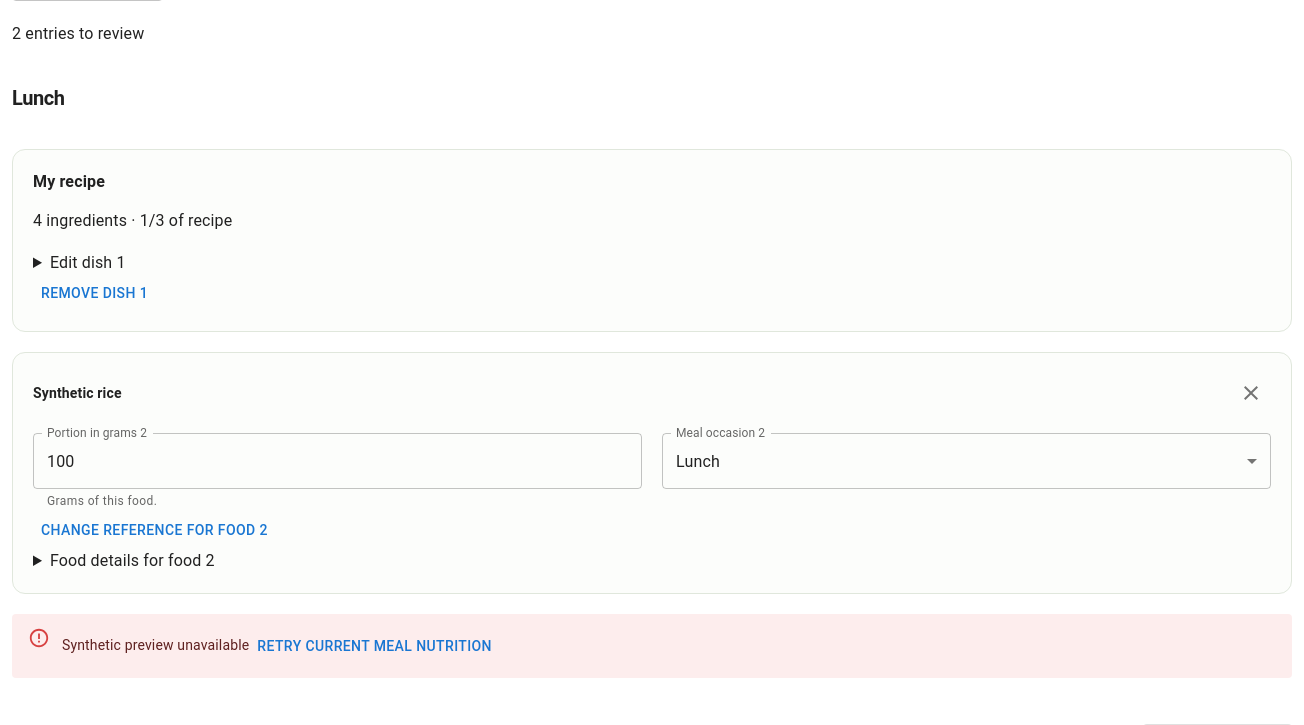
Scenario: UX-F08 complete root review › keeps failed previews explicit and preserves input on retry
This screenshot has width=1304, height=725.
Expected: the text "Synthetic preview unavailable" is shown, [62,637,249,653]
Click the button "Retry current meal nutrition": click(375, 646) [249,628,500,664]
(page scrolled)
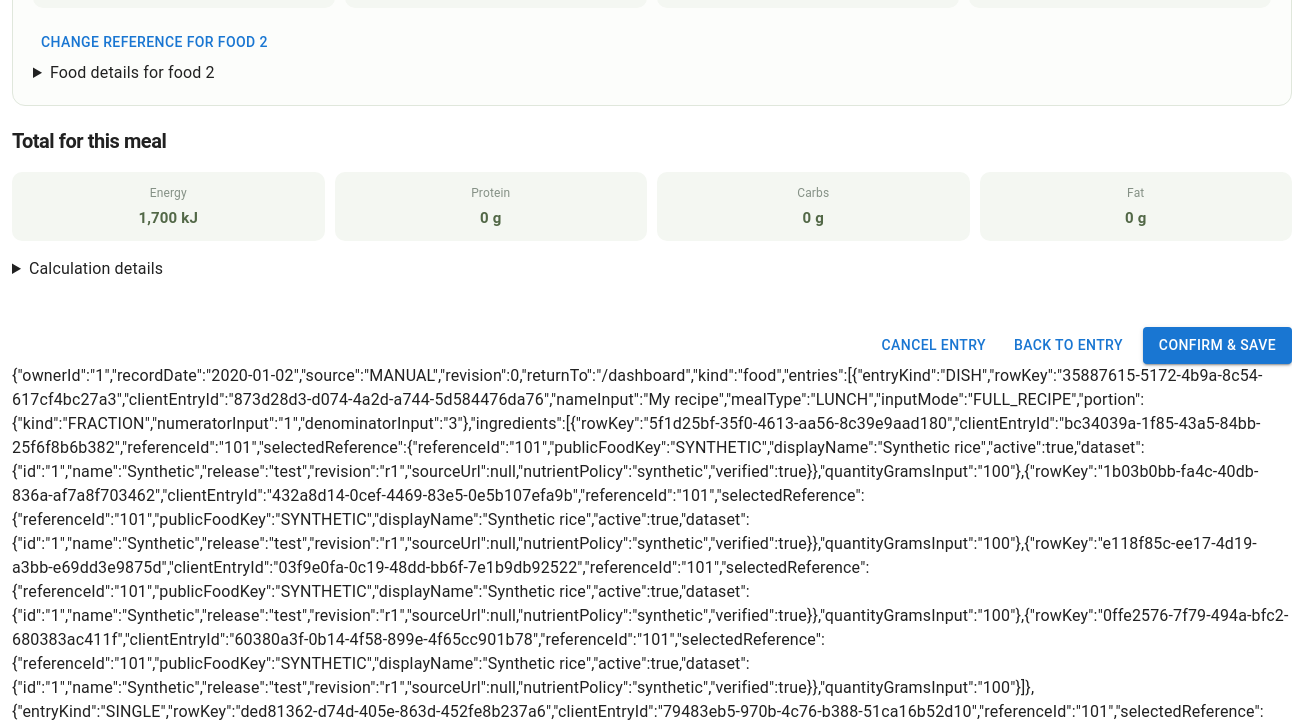
Now the button "Confirm & save" is enabled, box [1143,327,1292,364]
